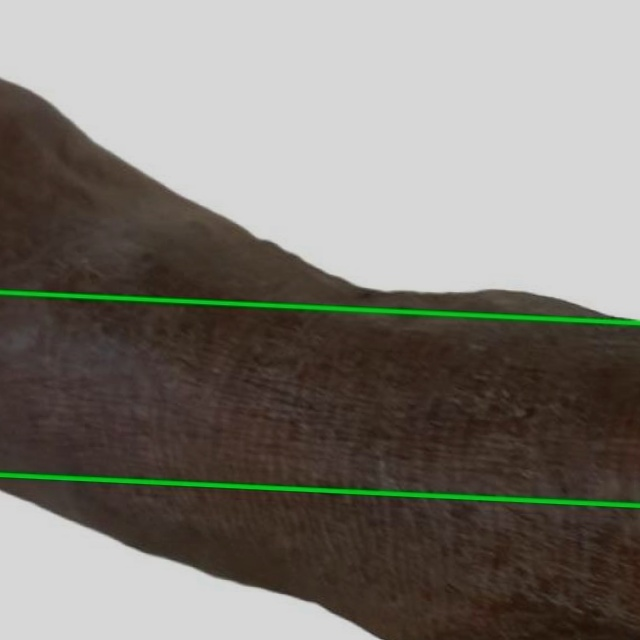Contact Dermatitis: (0, 0, 639, 323), (0, 475, 639, 639)
